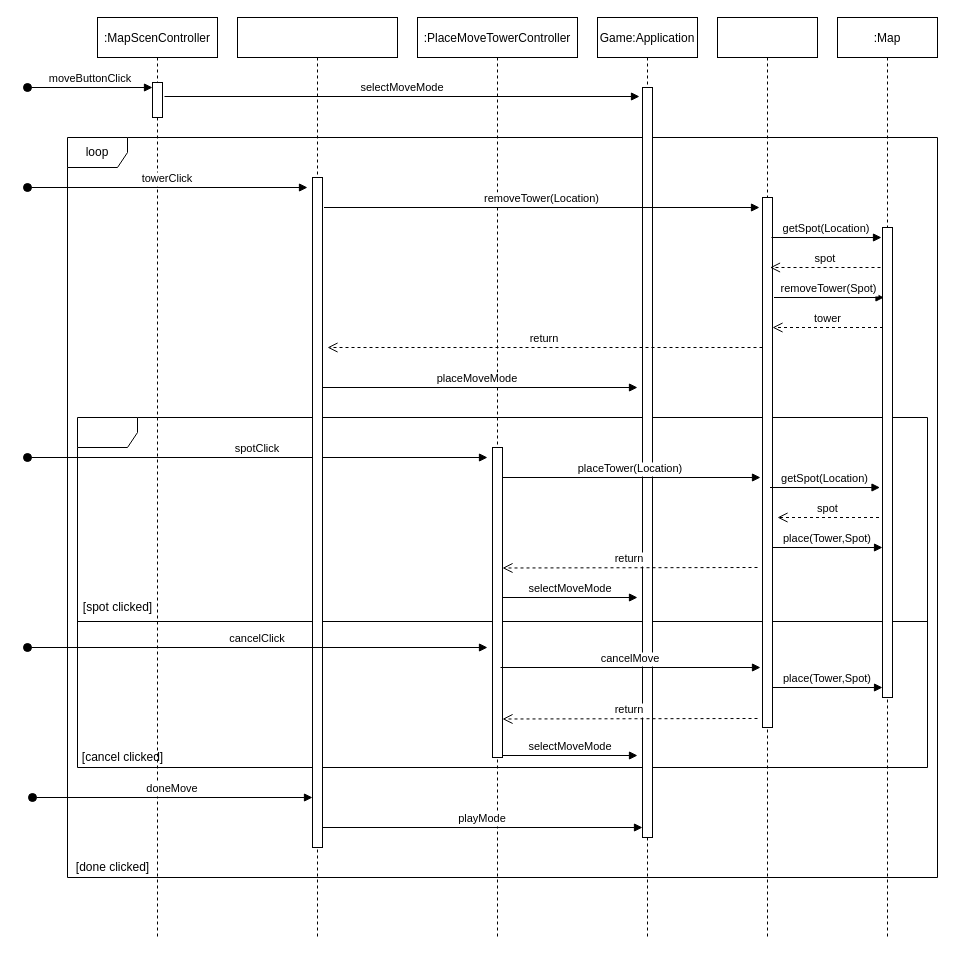
Image size: 955x955. Some labels were removed from this diagram. Each missing label, with the box of its shape:
:SelectMoveTowerController: (236, 16, 398, 938)
:TowerMover: (716, 16, 818, 938)
alt: (76, 416, 928, 768)
